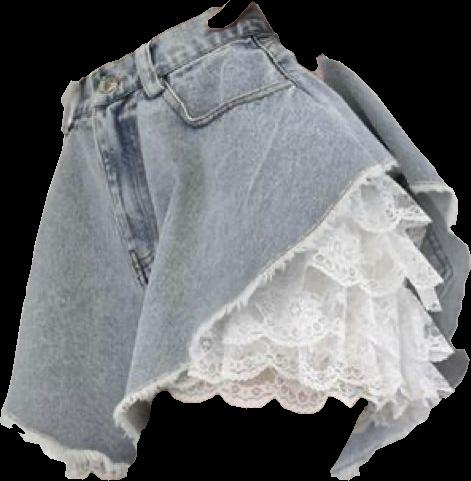Hemline: (118, 161, 470, 448), (186, 364, 453, 403), (133, 385, 434, 416), (296, 214, 468, 265), (200, 326, 454, 360), (0, 415, 127, 480), (260, 264, 460, 305)
Pantleg: (90, 2, 470, 479), (1, 75, 141, 479)
Waistline: (62, 31, 273, 137), (58, 0, 229, 99)
